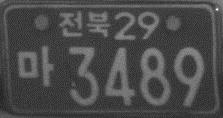2: (113, 11, 136, 43)
3: (67, 45, 100, 107)
4: (103, 46, 136, 106)
8: (138, 46, 170, 107)
9: (172, 46, 205, 108), (136, 9, 161, 41)
마: (17, 44, 55, 87)
전북_O: (56, 9, 111, 38)
